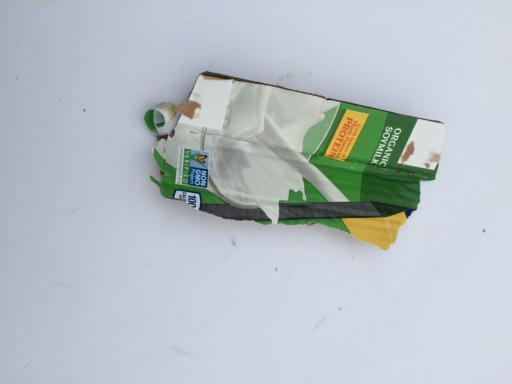plastic: (142, 73, 445, 253)
